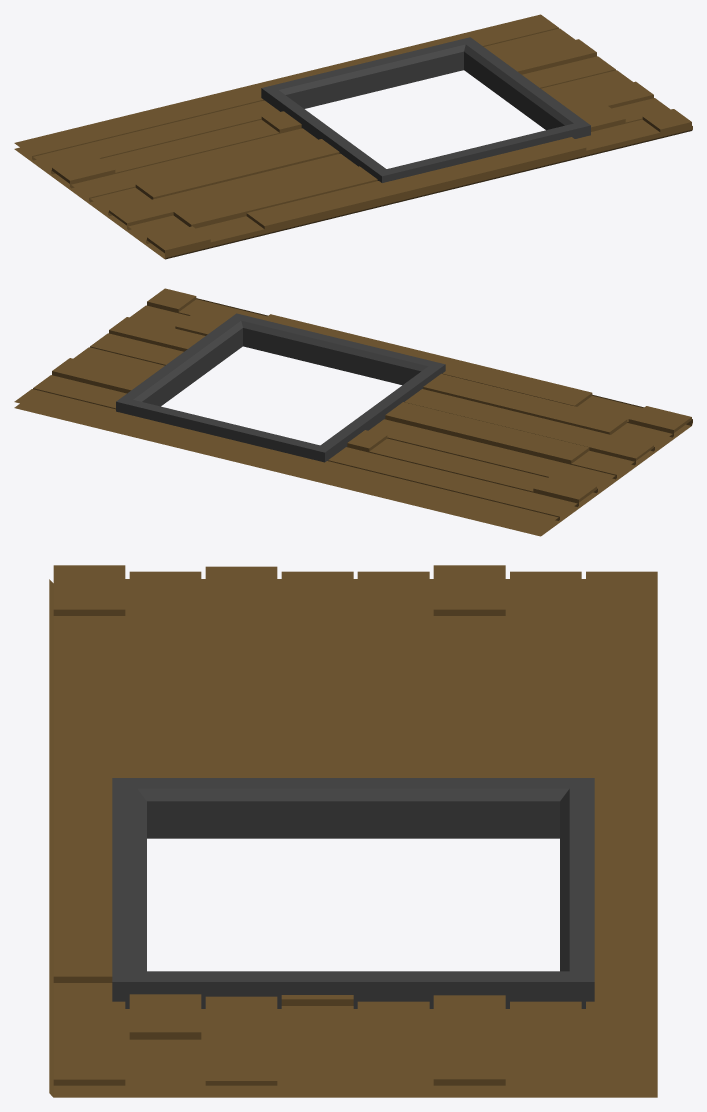
Rendered from FloorWoodHole2x4.fbx.
3 views of the same model, one above another, from view 1: azimuth 30°, elevation 25°; view 2: azimuth 150°, elevation 25°; view 3: azimuth 270°, elevation 25° (orthographic). The views are drawn at different scales.
Visible parts, largest first — view 1: FloorWood2x2.002; view 2: FloorWood2x2.002; view 3: FloorWood2x2.002.
Boxes of the visible parts, <box> form: FloorWood2x2.002: <box>14,14,692,259</box>; FloorWood2x2.002: <box>14,288,692,536</box>; FloorWood2x2.002: <box>49,565,657,1097</box>.
Size of the model in its own units: 400 by 16.65 by 200.
